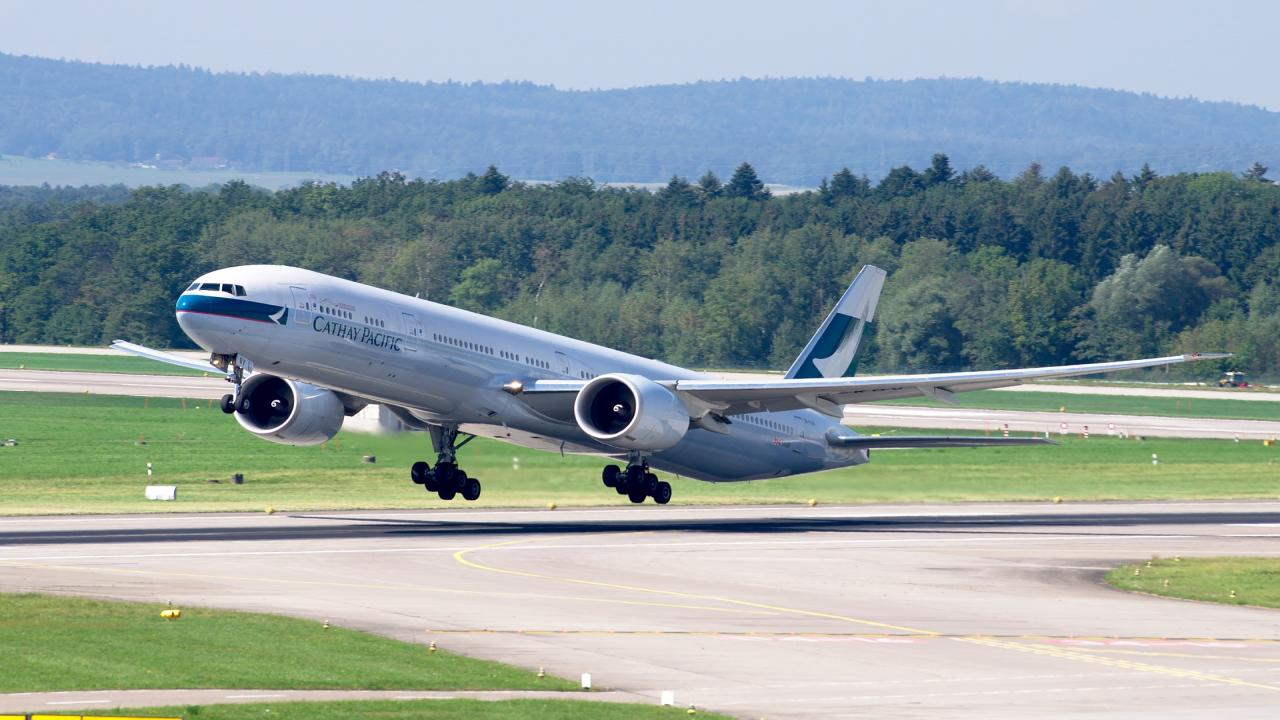Airplane: (96, 251, 1248, 517)
